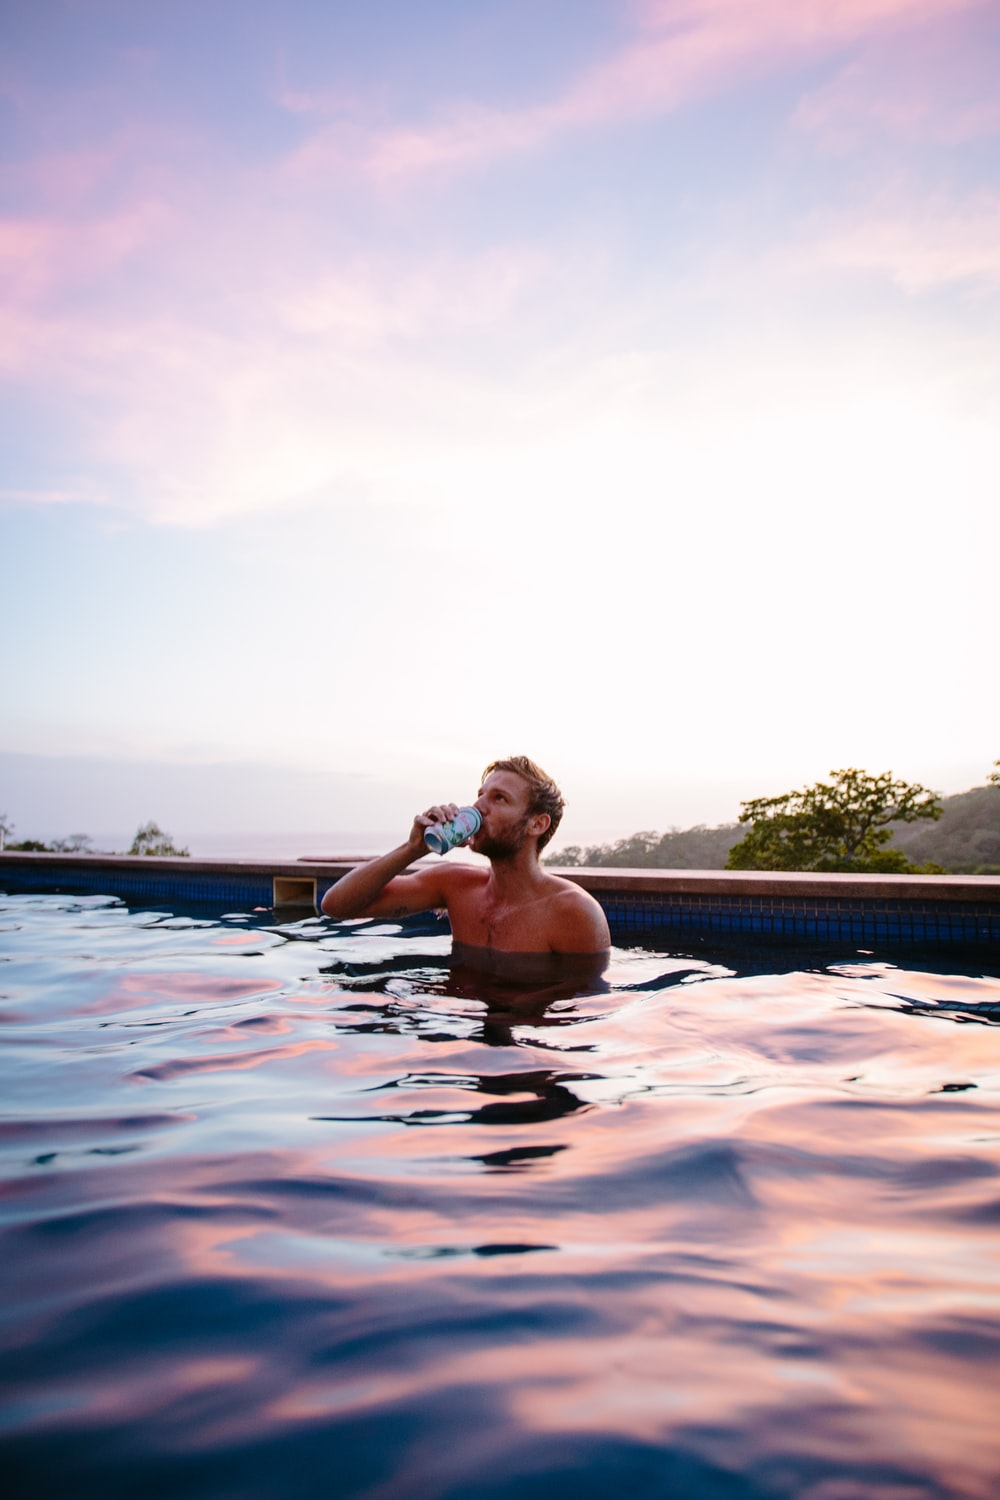drinking: (158, 574, 875, 1228)
